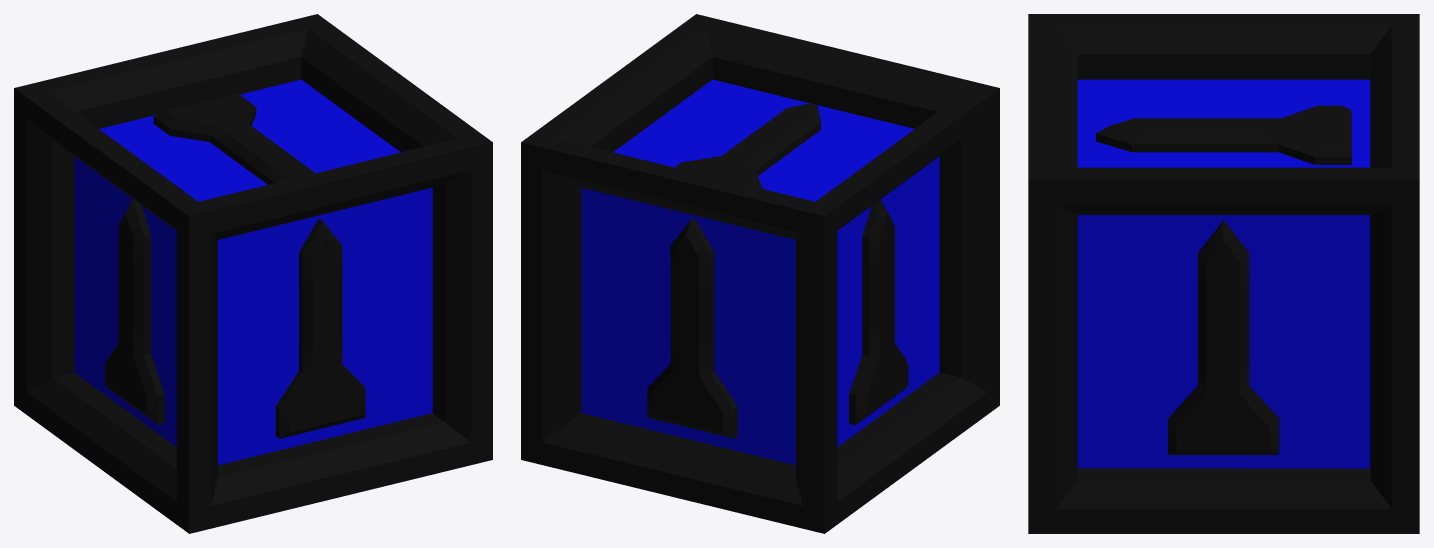
File: powerup.fbx
3 views of the same model, side by side, from view 1: azimuth 30°, elevation 25°; view 2: azimuth 150°, elevation 25°; view 3: azimuth 270°, elevation 25° (orthographic). The views are drawn at different scales.
Parts seen in each view (by area): view 1: powerup; view 2: powerup; view 3: powerup.
Part boxes in pixels (box(x1,y1,x2,y2)): powerup: box(14, 14, 492, 533); powerup: box(521, 14, 999, 533); powerup: box(1028, 14, 1419, 533).
Size of the model in its own units: 200 by 200 by 200.
